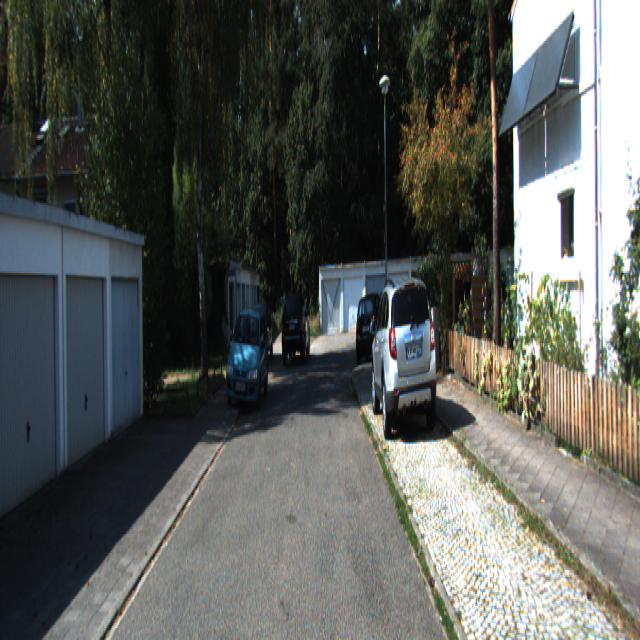Car: (369, 274, 438, 443), (227, 304, 268, 408), (356, 289, 388, 361), (281, 288, 311, 358)
